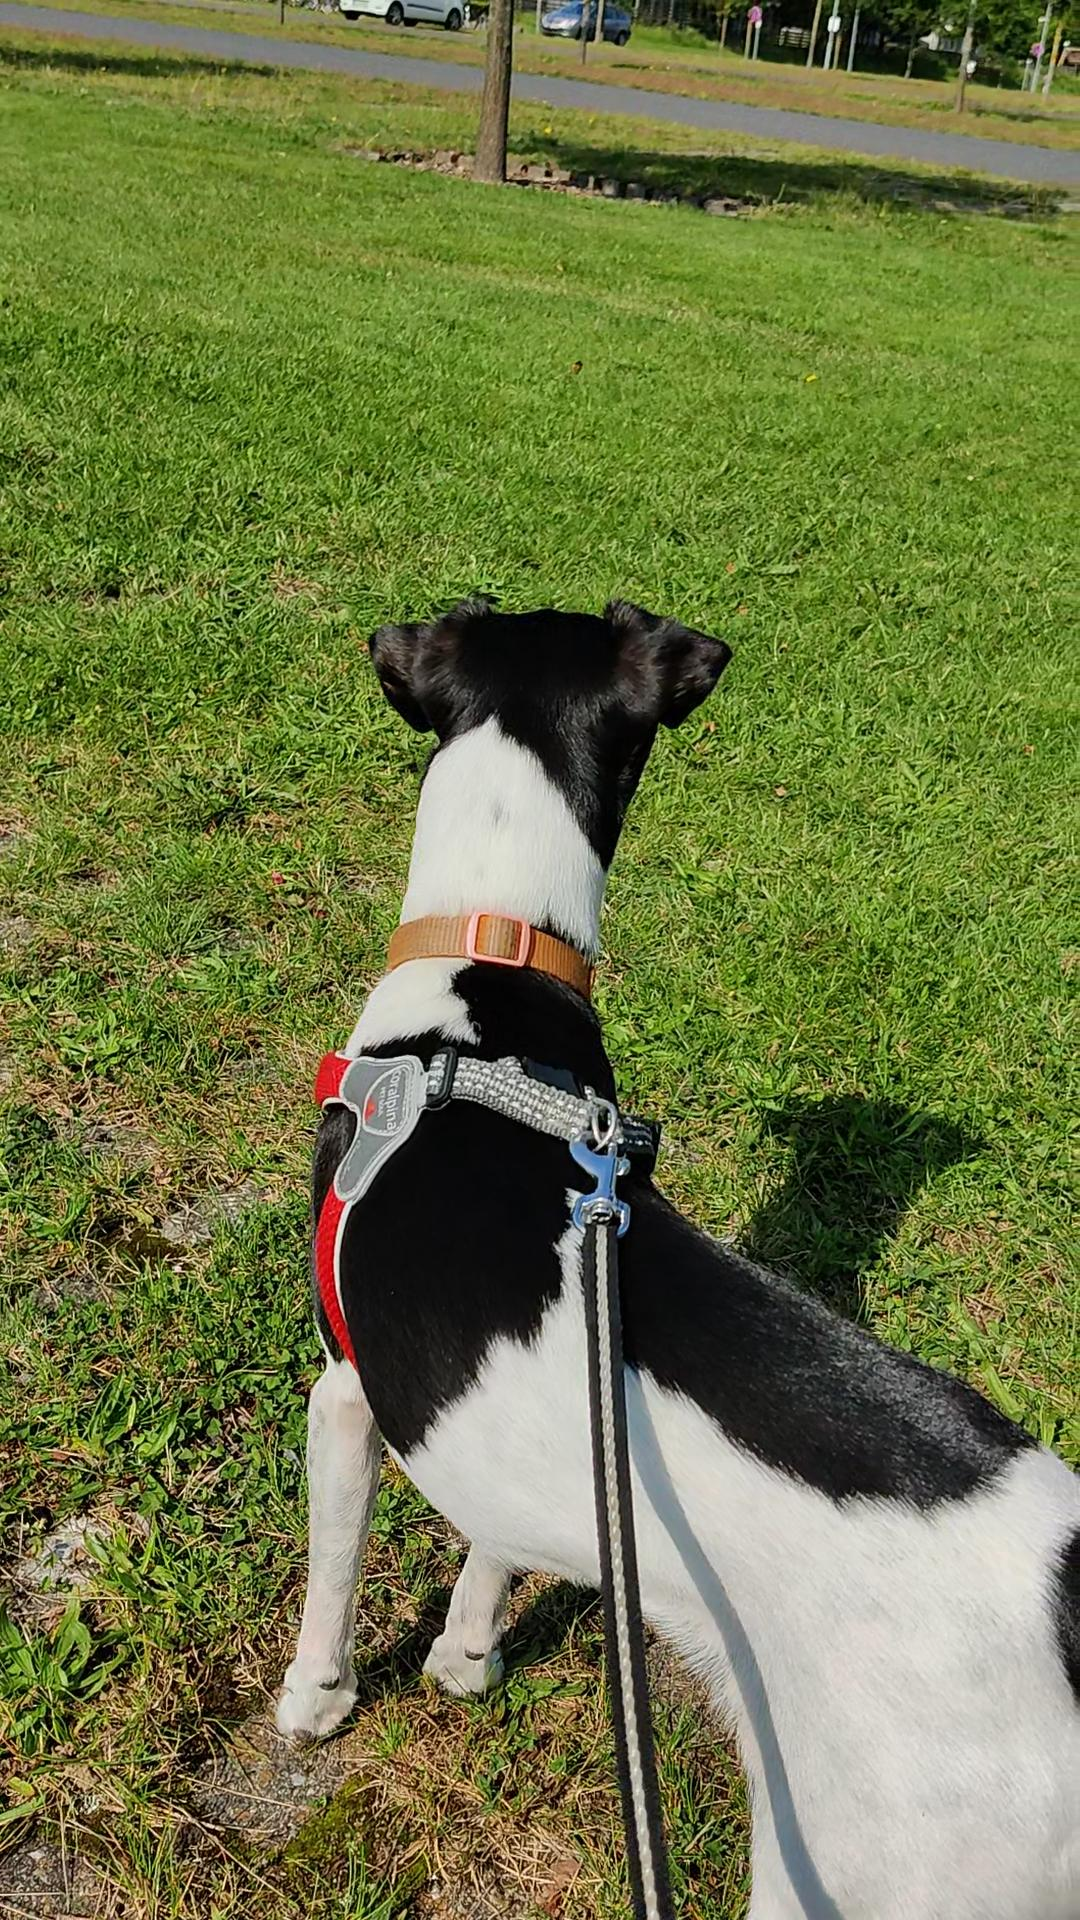Dog: (237, 556, 1079, 1919)
